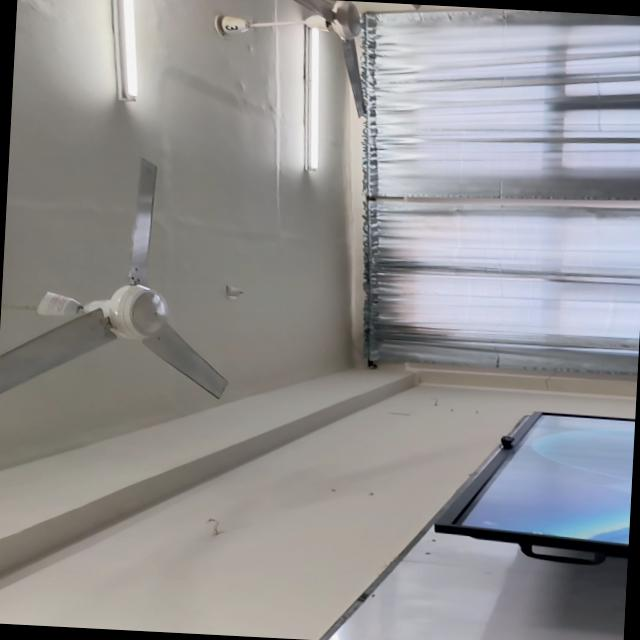Digital board: (434, 412, 635, 564)
Light: (303, 26, 321, 172), (111, 0, 137, 101)
